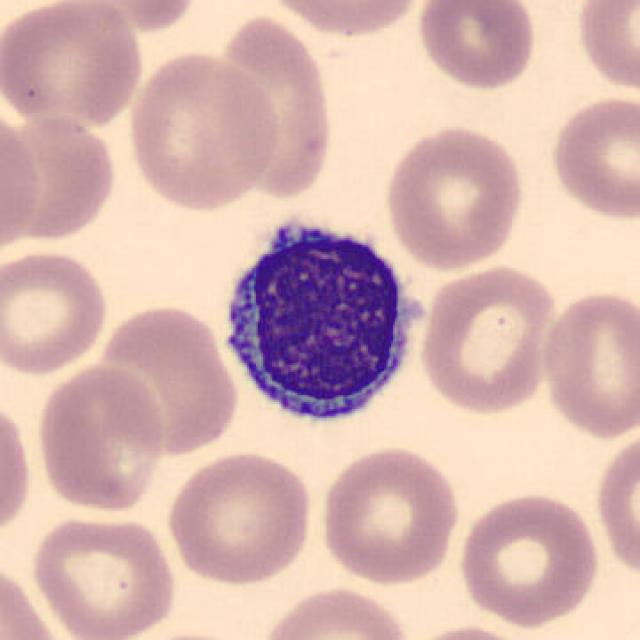Lymphocyte: (210, 204, 436, 436)
RBC: (123, 48, 281, 213), (212, 9, 338, 204), (96, 299, 240, 456), (416, 261, 560, 418), (380, 122, 528, 273), (316, 441, 464, 587), (162, 448, 316, 587), (32, 360, 169, 514), (455, 487, 603, 628), (29, 512, 180, 638), (2, 0, 146, 132), (2, 109, 121, 249), (537, 284, 638, 442), (0, 245, 112, 379), (544, 92, 638, 222), (414, 0, 538, 93), (252, 582, 416, 640), (0, 100, 53, 257), (592, 425, 638, 583), (258, 0, 430, 39), (572, 0, 638, 95), (0, 557, 69, 640), (0, 392, 36, 546), (62, 0, 204, 37), (396, 622, 540, 640), (117, 627, 268, 640)
